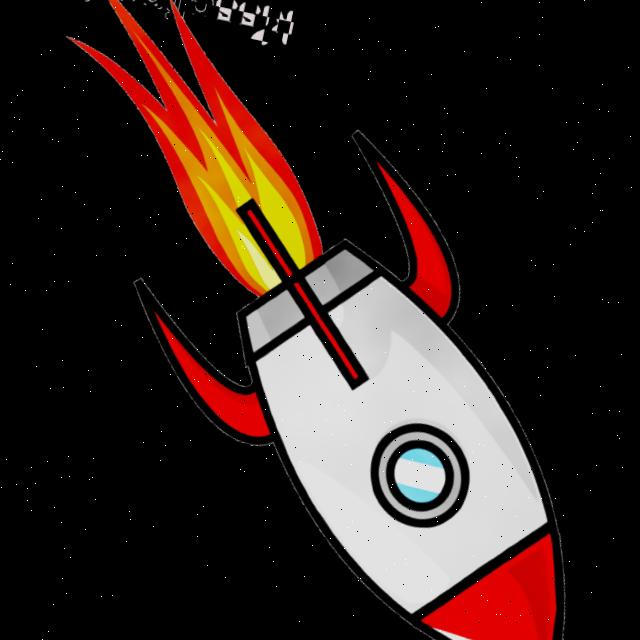rocket: (127, 126, 575, 640)
